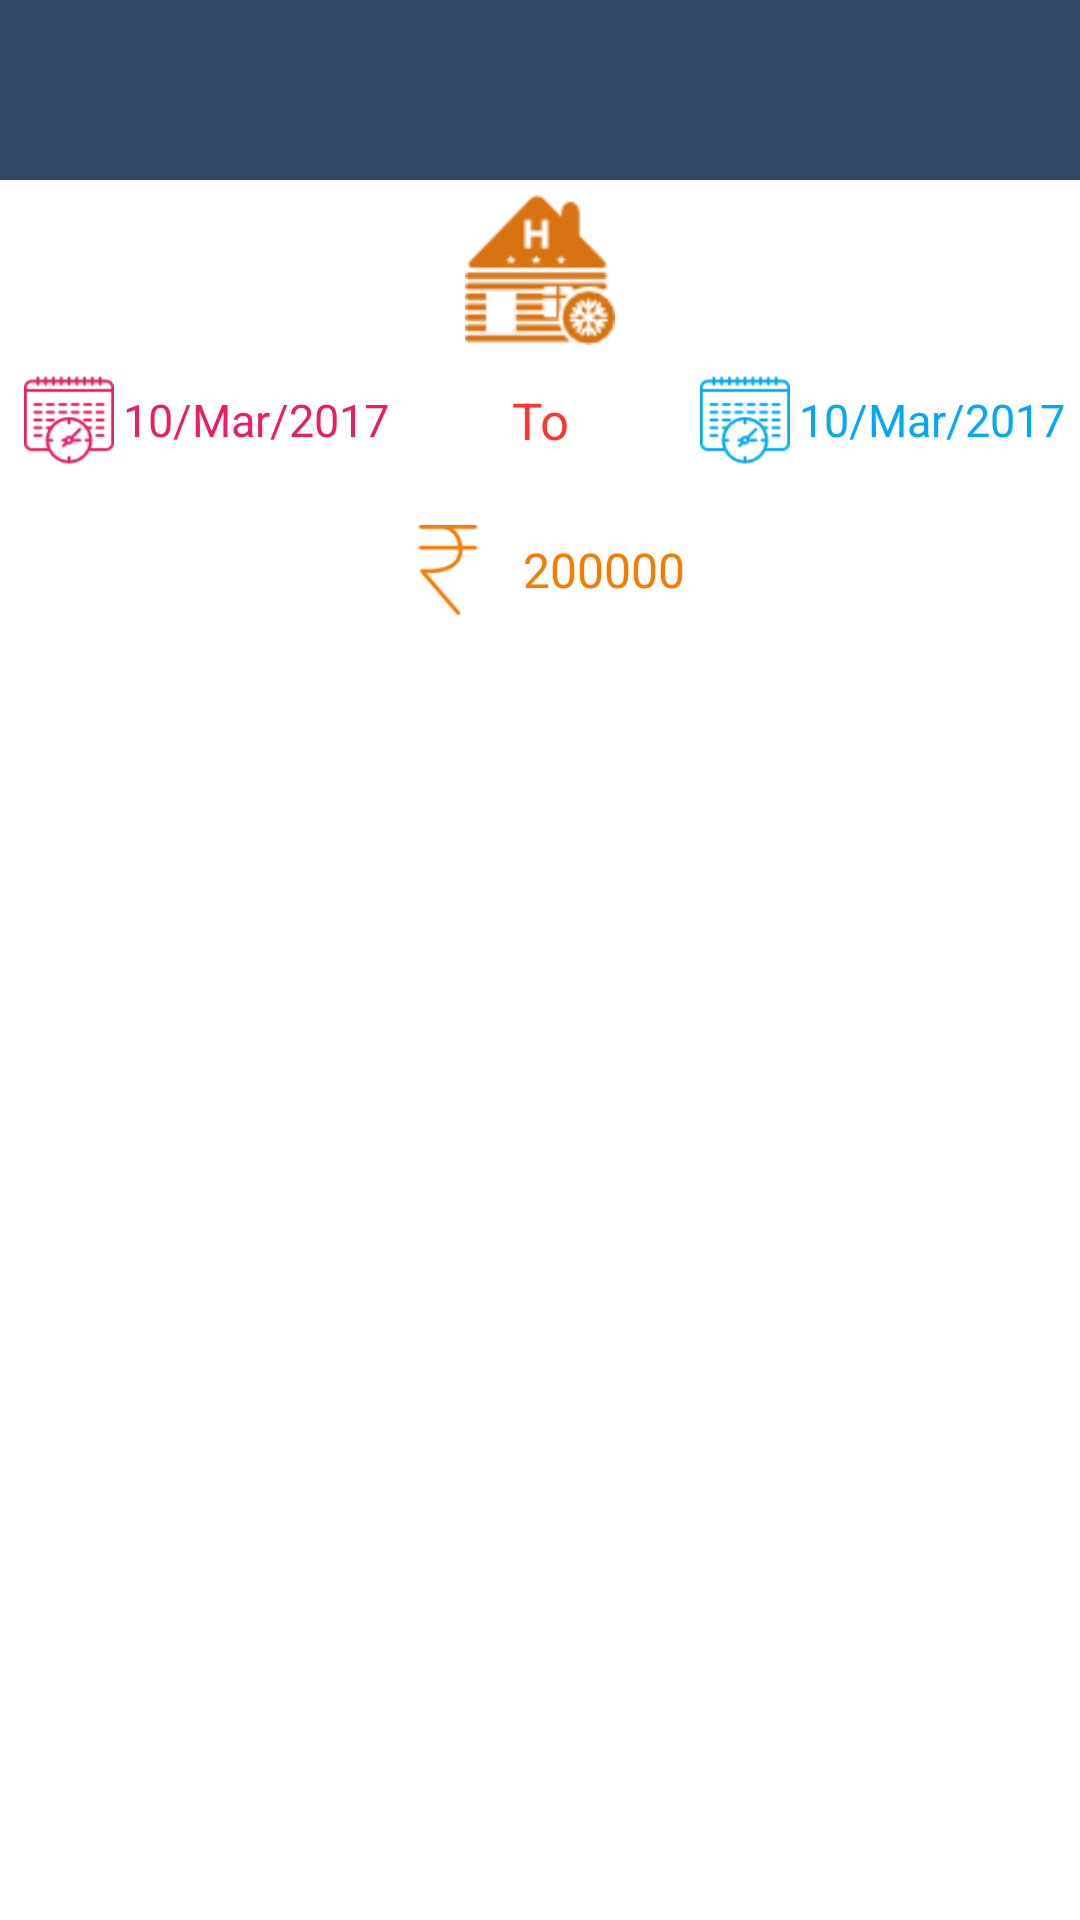

Where icons sit on this 1080w x 1920h app screen, as bbox(x1, y1, x2, y2):
accomodation: bbox(465, 195, 615, 345)
duedate: bbox(24, 376, 114, 464), bbox(700, 376, 790, 464)
indian rupee: bbox(418, 525, 478, 615)
